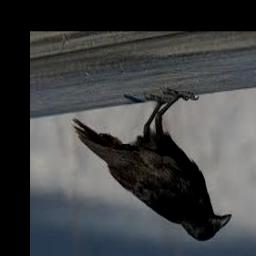Crow: (70, 89, 231, 242)
